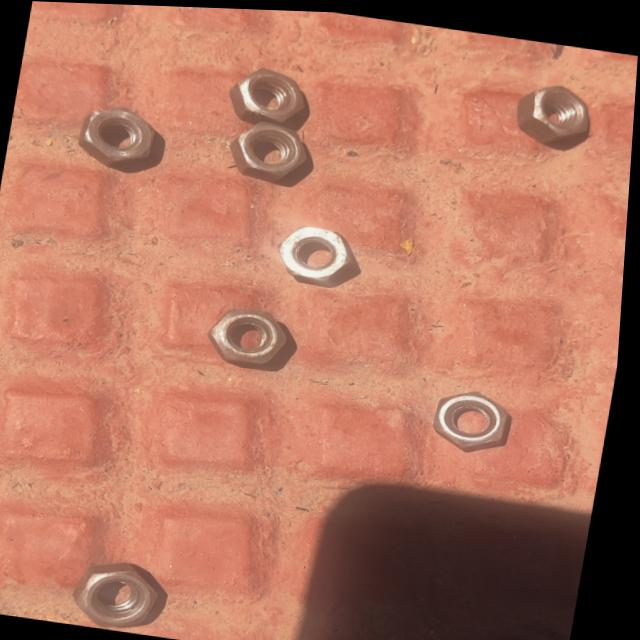disinfected nut: (82, 561, 177, 627), (212, 306, 301, 369), (80, 107, 165, 172), (282, 224, 364, 285), (229, 66, 312, 126), (232, 119, 311, 180), (440, 388, 519, 449), (517, 82, 592, 139)
